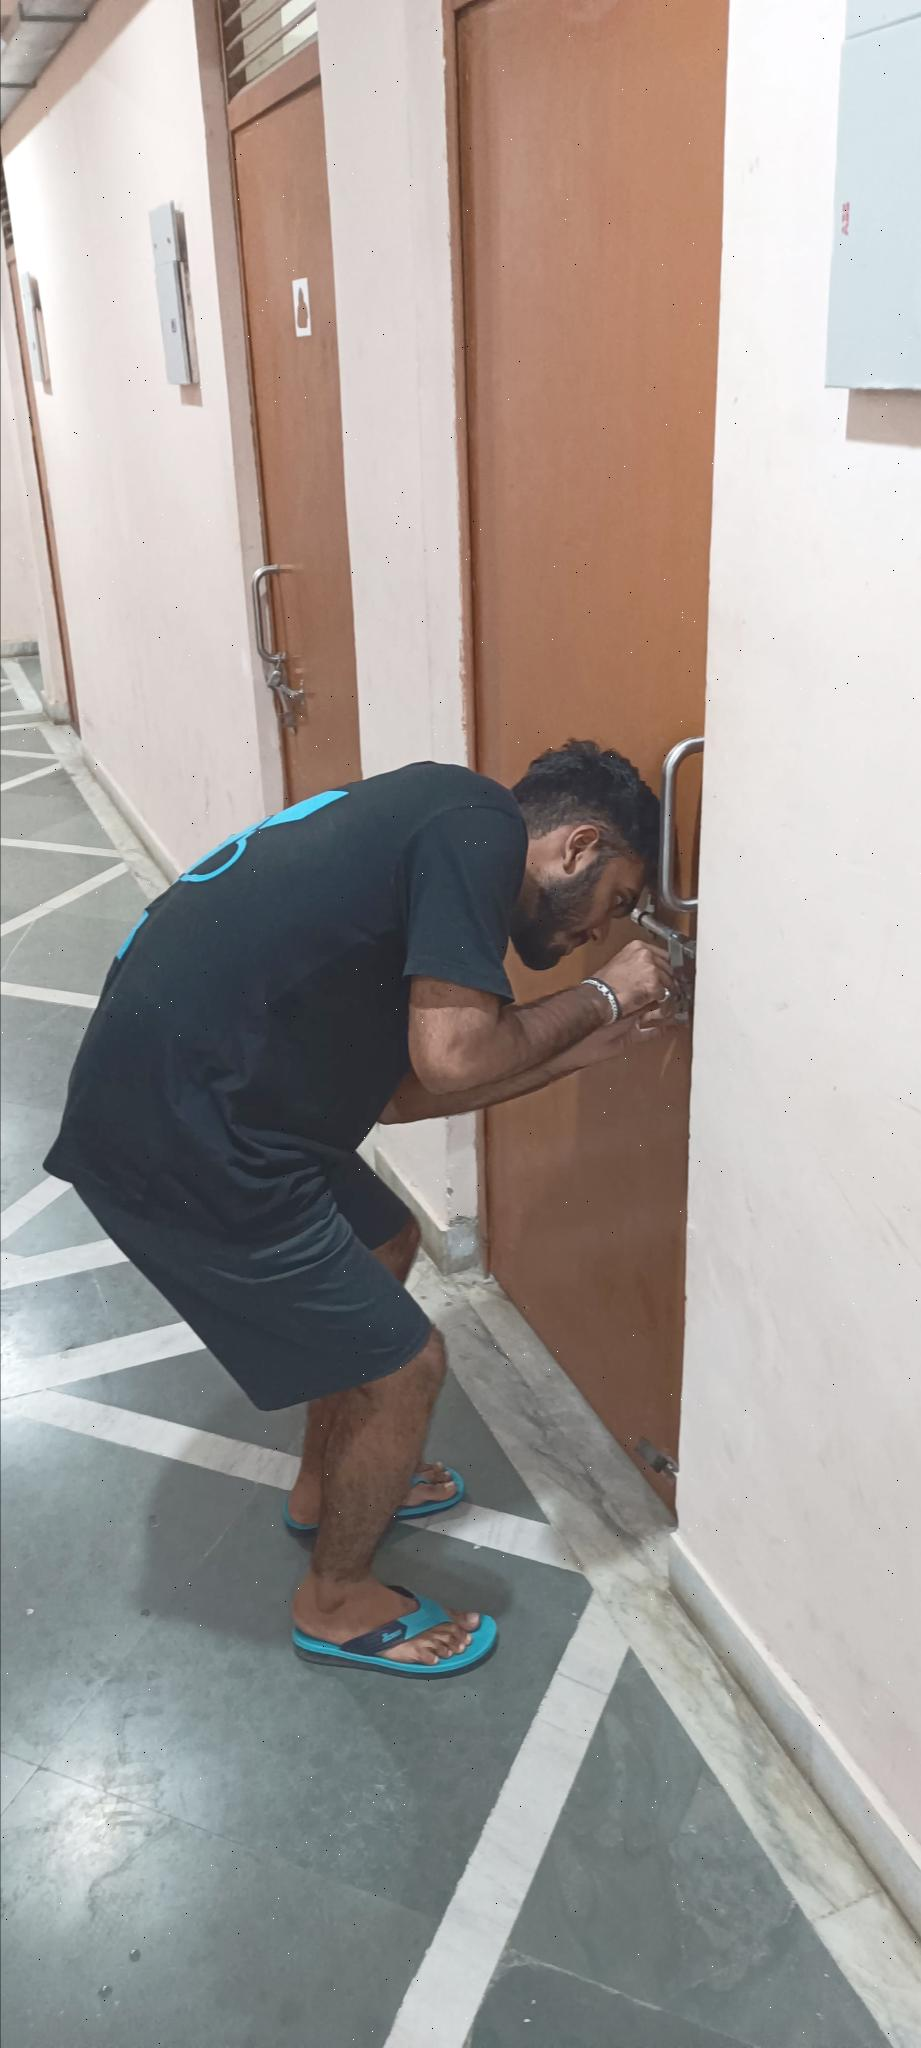suspicion: (30, 650, 738, 1762)
